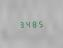eight: (30, 20, 35, 27)
five: (36, 19, 41, 27)
four: (24, 20, 29, 28)
three: (18, 20, 23, 28)
